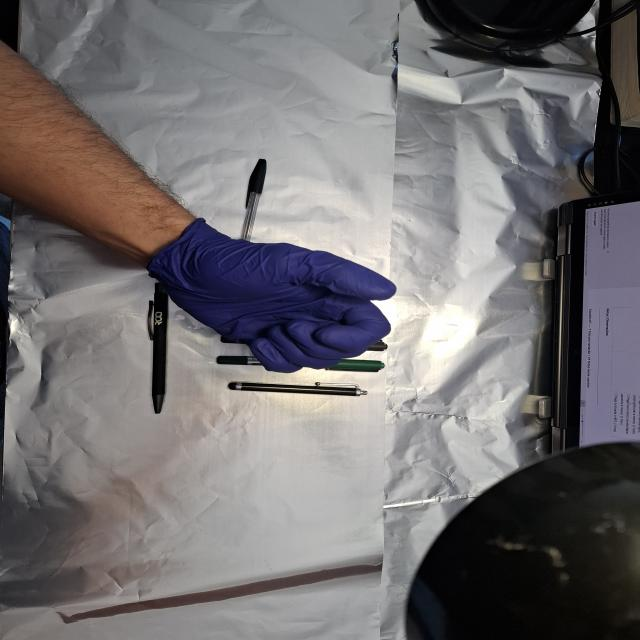glove_on: (143, 214, 400, 376)
